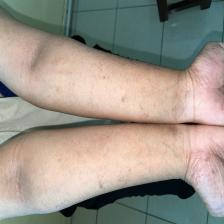Dermatitis kontak alergi: (167, 85, 189, 121), (166, 124, 183, 143)
